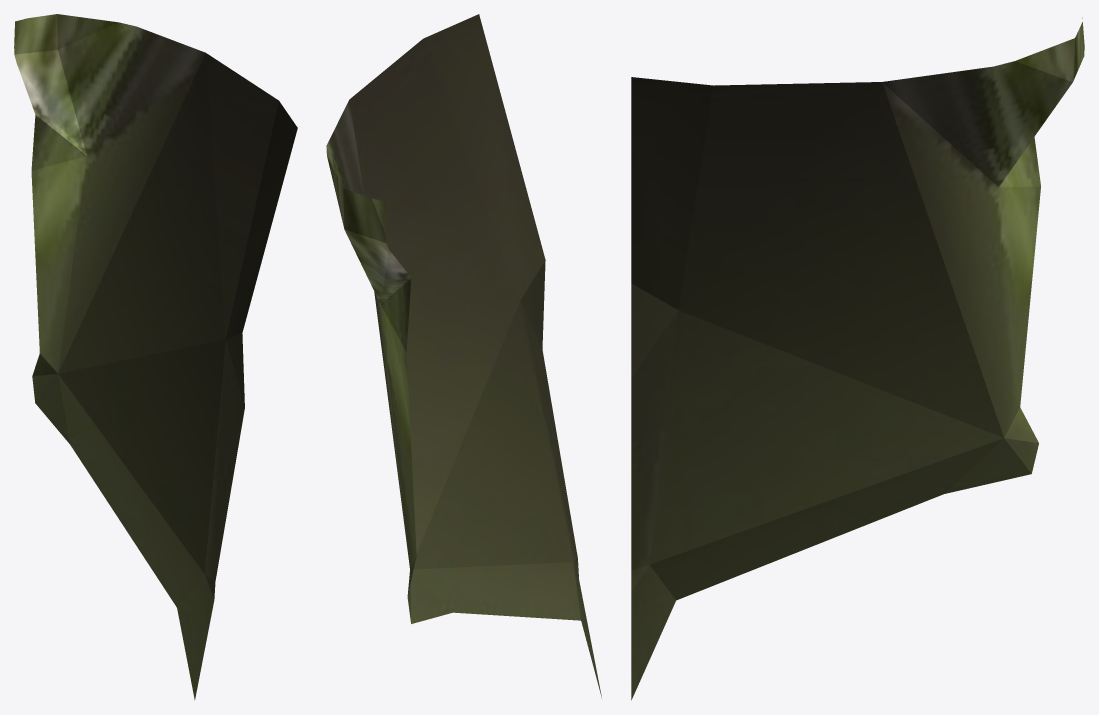
3 renders of one model, left to right at view 1: azimuth 30°, elevation 25°; view 2: azimuth 150°, elevation 25°; view 3: azimuth 270°, elevation 25°, orthographic. The views are drawn at different scales.
Bounding box in the file's own units: 0.4178 × 1.87 × 1.12.
Materials: 1 (1 with a texture image).
